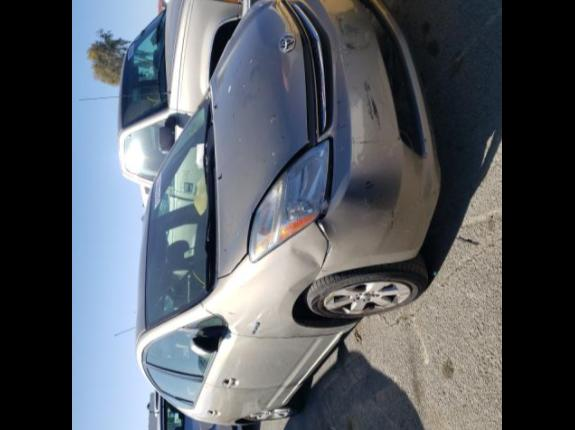Broken part: (246, 0, 318, 256), (312, 132, 336, 278)
Dent: (290, 270, 322, 292), (292, 248, 320, 268), (282, 52, 294, 90), (320, 214, 336, 241)
Scratch: (370, 96, 382, 128), (346, 40, 370, 54), (366, 92, 374, 120), (344, 22, 362, 32), (336, 16, 344, 34), (364, 80, 374, 92), (370, 194, 382, 202), (366, 182, 376, 190), (336, 122, 346, 130), (354, 140, 372, 144), (364, 32, 370, 42), (336, 98, 342, 104), (396, 134, 402, 140), (364, 180, 372, 184), (390, 220, 394, 228), (392, 208, 396, 216), (322, 270, 330, 272), (322, 266, 328, 268)
